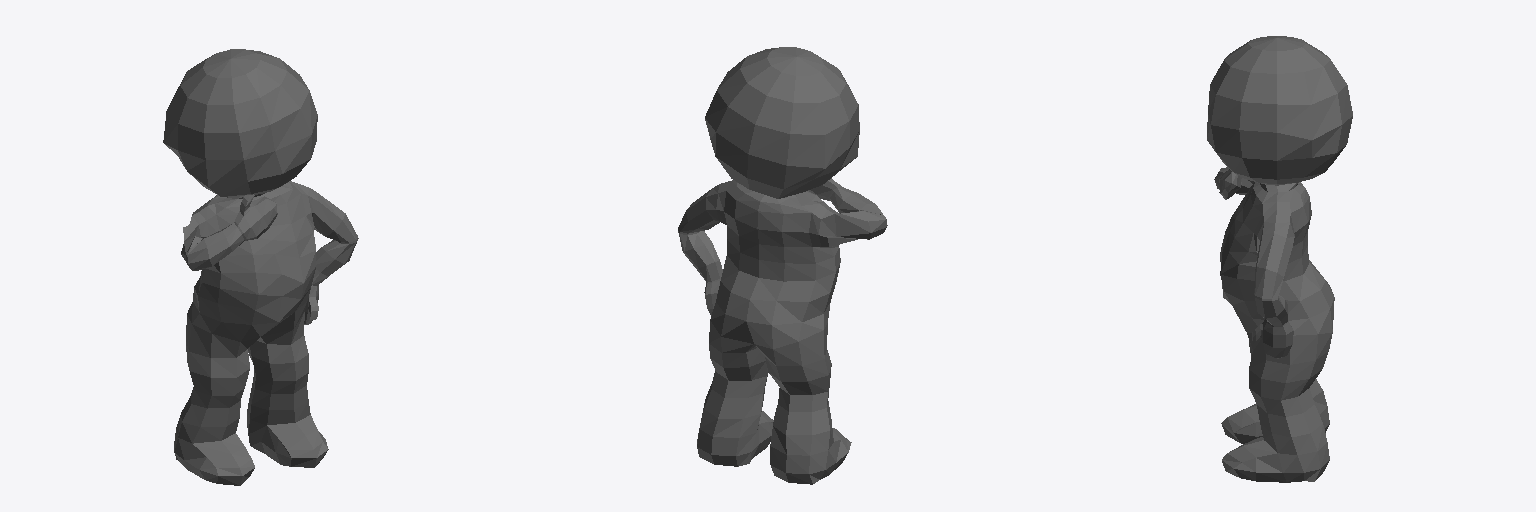
Rendered from dude_thinking.obj.
The picture shows the model from 3 angles: view 1: azimuth 30°, elevation 25°; view 2: azimuth 150°, elevation 25°; view 3: azimuth 270°, elevation 25°; orthographic projection.
Parts seen in each view (by area): view 1: guy polySurface1; view 2: guy polySurface1; view 3: guy polySurface1.
Part boxes in pixels (x1,y1,x2,y2): guy polySurface1: (163, 49, 358, 485); guy polySurface1: (678, 47, 887, 484); guy polySurface1: (1207, 36, 1352, 482).
Size of the model in its own units: 15.15 by 31.51 by 10.21.